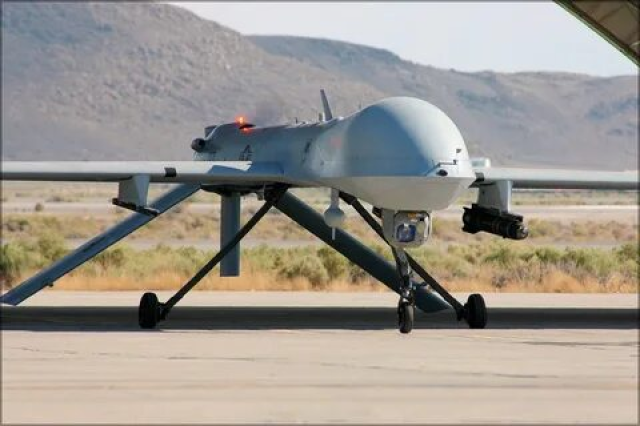military drone: (0, 88, 640, 334)
